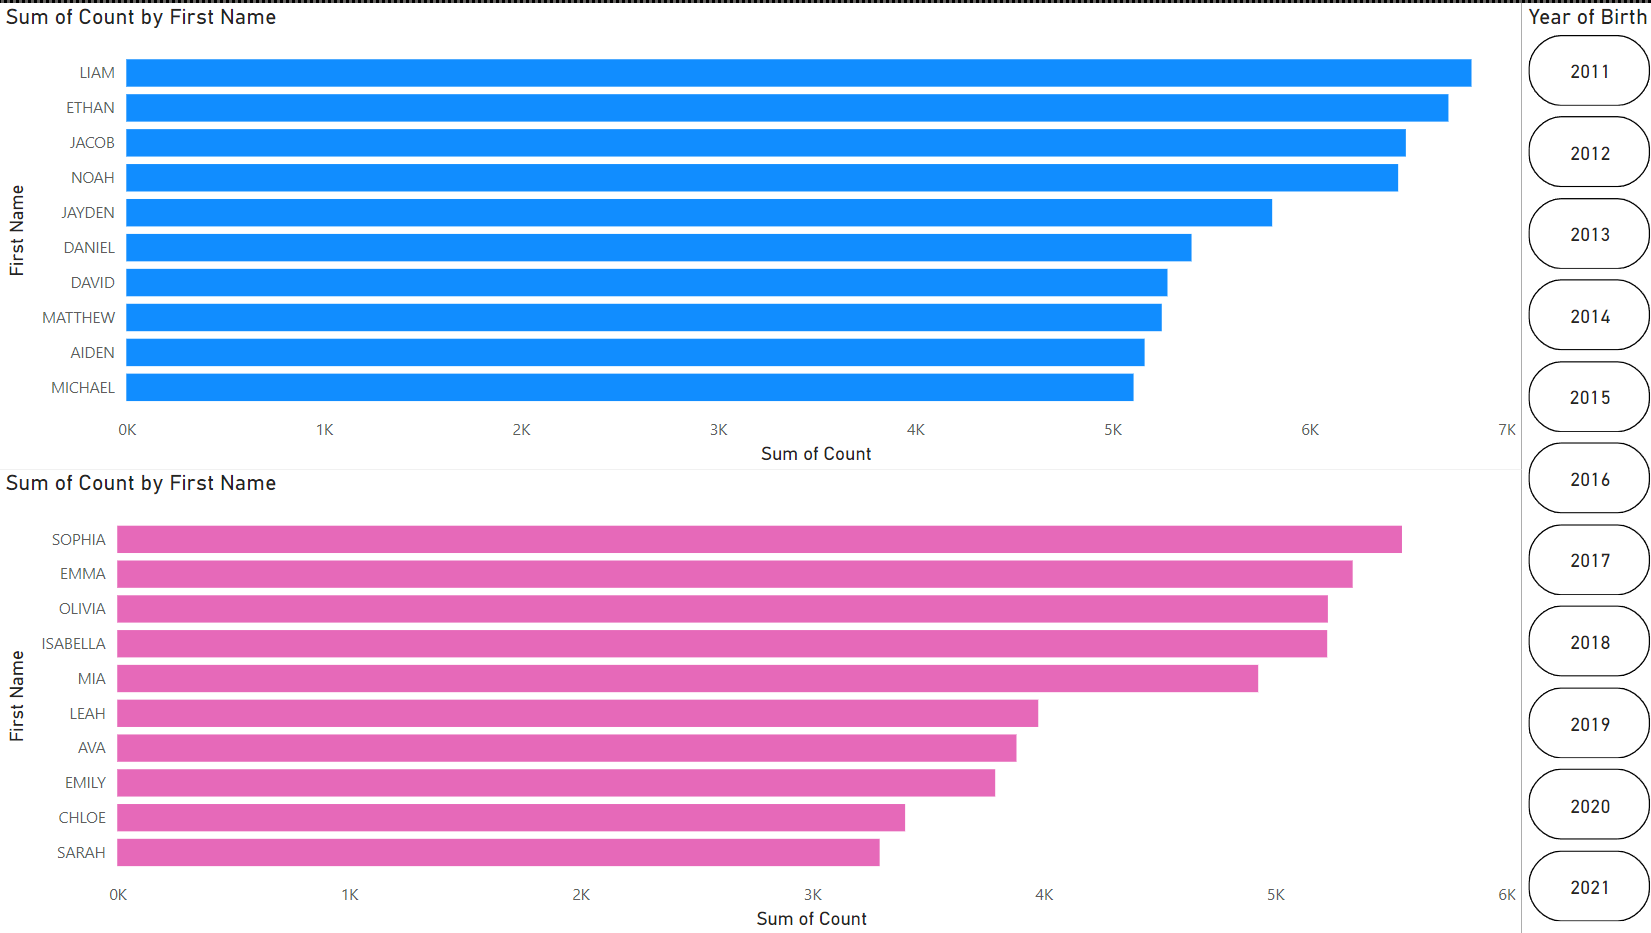

This screenshot's page, from the dashboard's own definition file:
{"tool":"powerbi","page":{"name":"Most Popular Baby Names","canvas":[1280,720],"ordinal":1},"visuals":[{"type":"barChart","fields":{"Category":["baby_names_cleaned (1).First Name"],"Y":["baby_names_cleaned (1).Count"]},"box":[0,0,1176.1,360.4],"z":0},{"type":"barChart","fields":{"Category":["baby_names_cleaned (1).First Name"],"Y":["baby_names_cleaned (1).Count"]},"box":[0,360.4,1176.1,359.2],"z":1},{"type":"advancedSlicerVisual","fields":{"Values":["baby_names_cleaned (1).Year of Birth"]},"box":[1176.1,0,104.3,719.6],"z":2}]}

Visuals, with their boxes in screenshot pixels (x1, y1, x2, y2), scaled from the page's 1280x720 canvas onto the 1651x933 screenshot:
barChart - baby_names_cleaned (1).First Name x baby_names_cleaned (1).Count: {"left": 0, "top": 0, "right": 1517, "bottom": 467}
barChart - baby_names_cleaned (1).First Name x baby_names_cleaned (1).Count: {"left": 0, "top": 467, "right": 1517, "bottom": 932}
advancedSlicerVisual - baby_names_cleaned (1).Year of Birth: {"left": 1517, "top": 0, "right": 1650, "bottom": 932}
